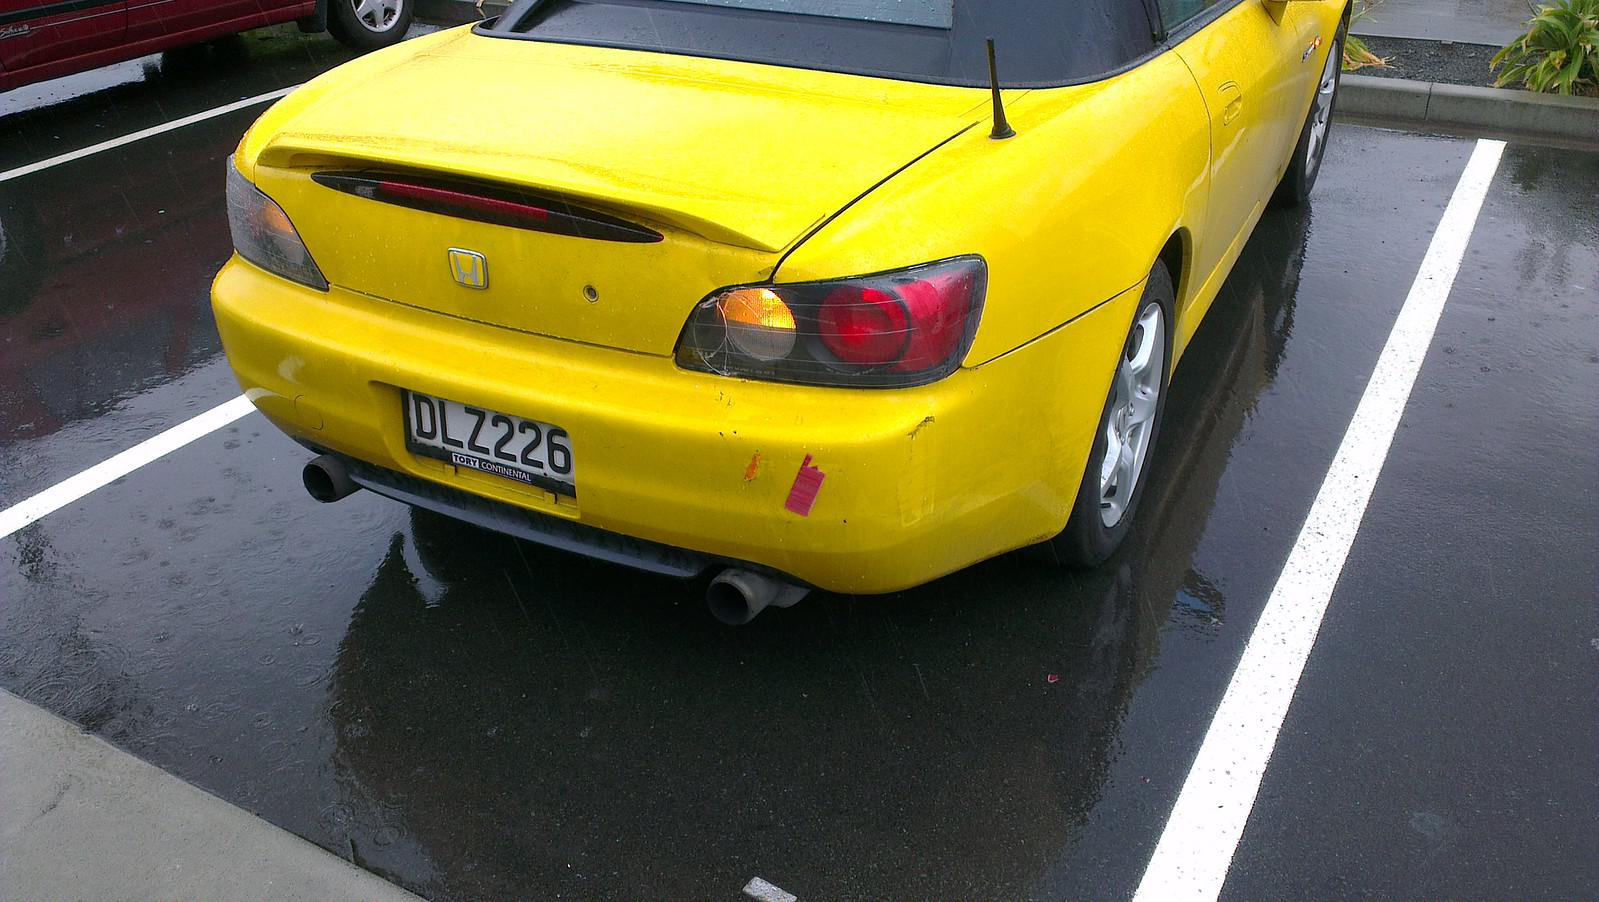rear-bumper-dent: (421, 318, 1022, 588)
